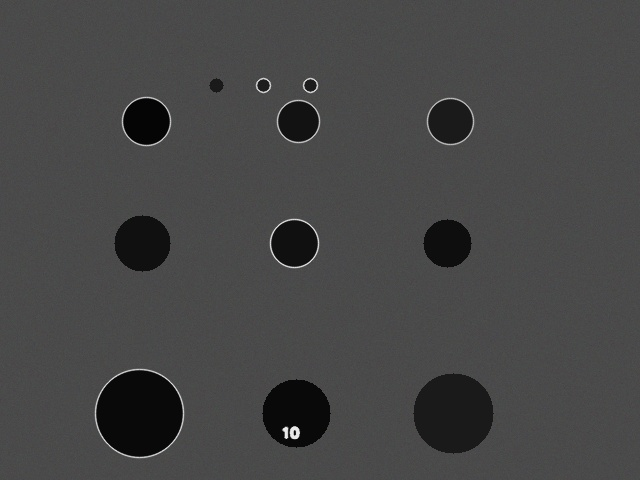hole: (95, 369, 183, 457), (413, 373, 493, 453), (262, 379, 330, 447), (114, 215, 170, 271), (122, 97, 170, 145), (270, 219, 318, 267), (423, 219, 471, 267), (427, 98, 473, 144), (277, 100, 319, 142), (209, 78, 223, 92), (256, 78, 270, 92), (303, 78, 317, 92)
